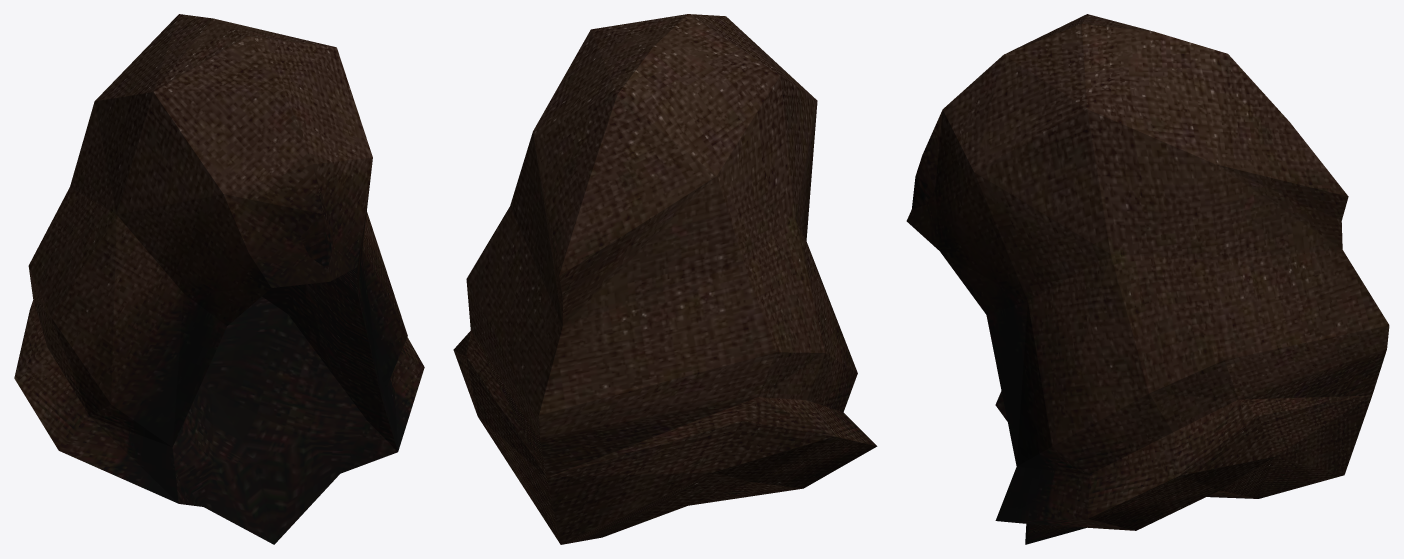
File: HUM_HELM_2BR.glb
3 renders of one model, left to right at view 1: azimuth 30°, elevation 25°; view 2: azimuth 150°, elevation 25°; view 3: azimuth 270°, elevation 25°, orthographic. The views are drawn at different scales.
Parts seen in each view (by area): view 1: HUM_HELM_2BR; view 2: HUM_HELM_2BR; view 3: HUM_HELM_2BR.
Part boxes in pixels (x1,y1,x2,y2): HUM_HELM_2BR: [14, 14, 424, 544]; HUM_HELM_2BR: [453, 14, 877, 544]; HUM_HELM_2BR: [906, 14, 1389, 544].
Bounding box in the file's own units: 0.3241 × 0.4106 × 0.345.
Materials: 1 (1 with a texture image).
